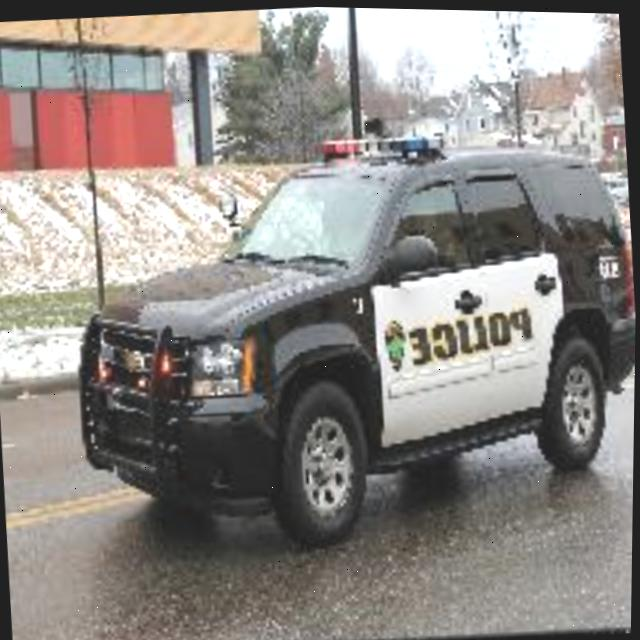emergency: (38, 108, 639, 525)
